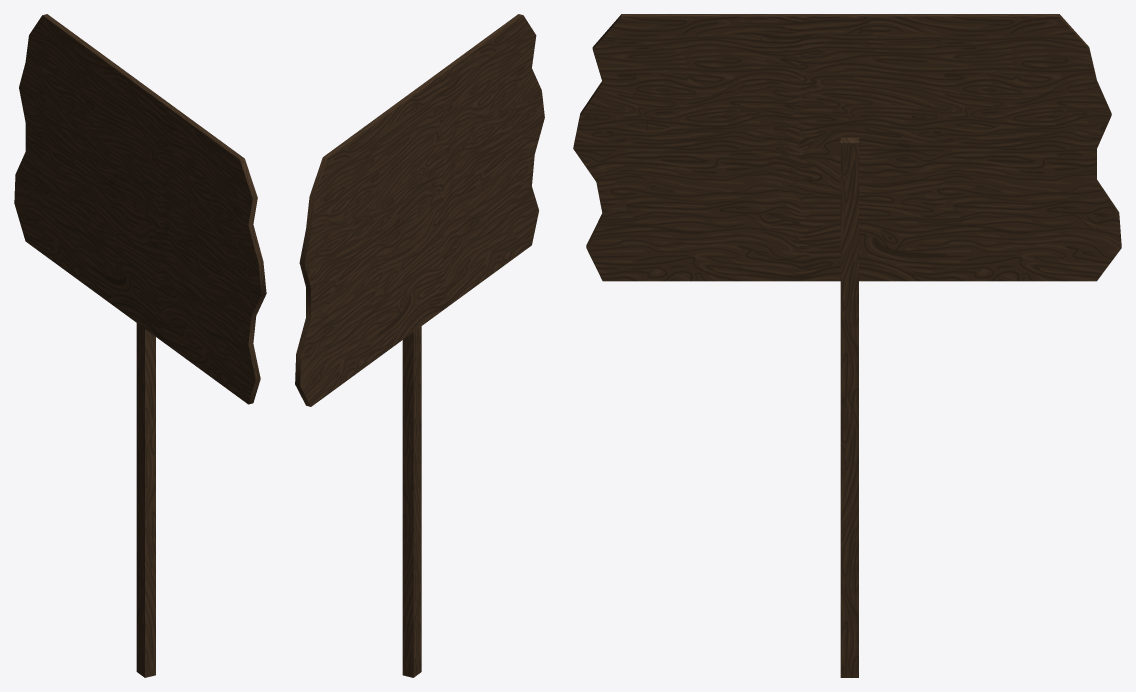
File: Unwrapped_brokensign.fbx
3 renders of one model, left to right at view 1: azimuth 30°, elevation 25°; view 2: azimuth 150°, elevation 25°; view 3: azimuth 270°, elevation 25°, orthographic. The views are drawn at different scales.
Visible parts, largest first — view 1: Box002; view 2: Box002; view 3: Box002.
Part boxes in pixels (box(x1,y1,x2,y2)): Box002: box(14, 14, 266, 677); Box002: box(295, 14, 544, 677); Box002: box(573, 14, 1121, 677).
Bounding box in the file's own units: 0.1342 × 5.08 × 3.85.
